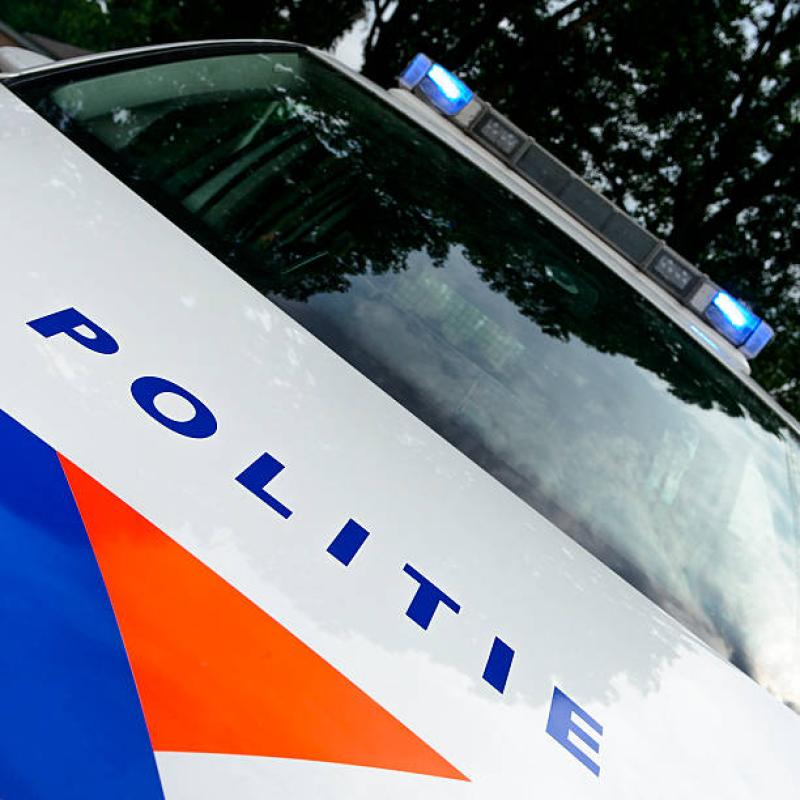AmbulanceSiren: (383, 30, 786, 381)
